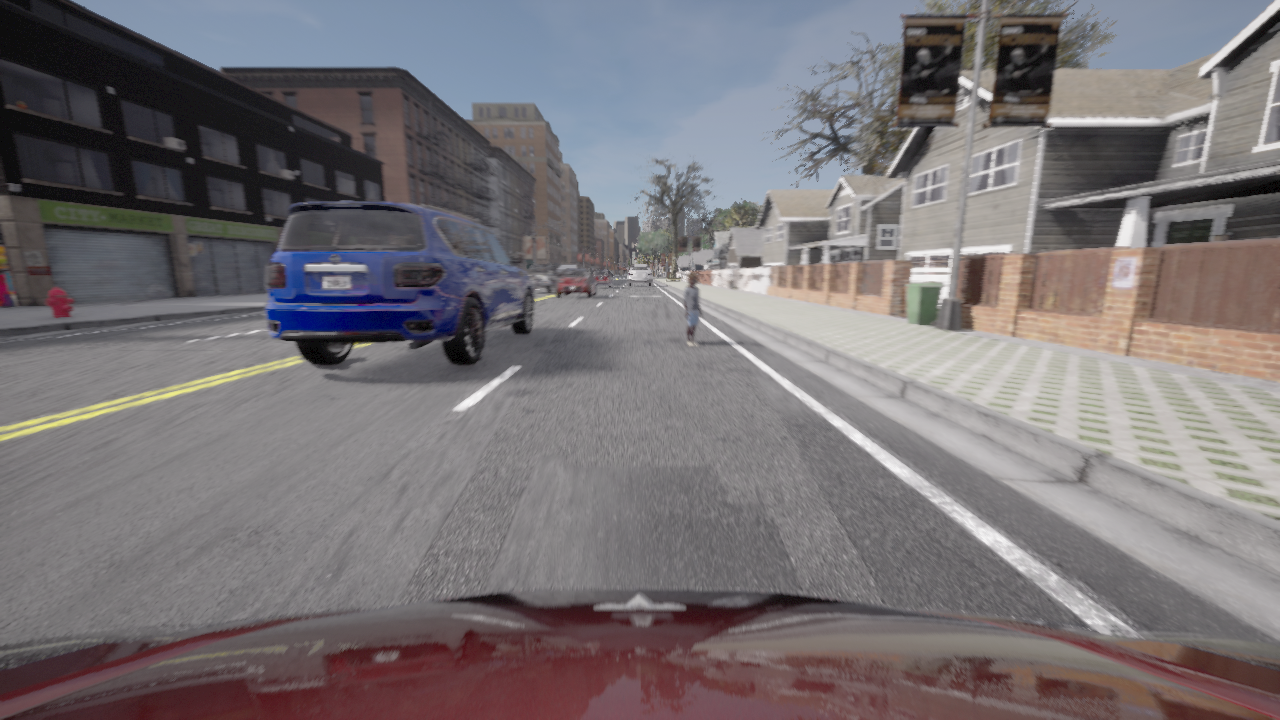cyclist: (0, 588, 1279, 719), (265, 201, 535, 365), (556, 268, 596, 297), (526, 263, 558, 293), (628, 265, 652, 286), (556, 264, 583, 276), (593, 270, 612, 287)
pedestrian: (684, 275, 701, 345)
